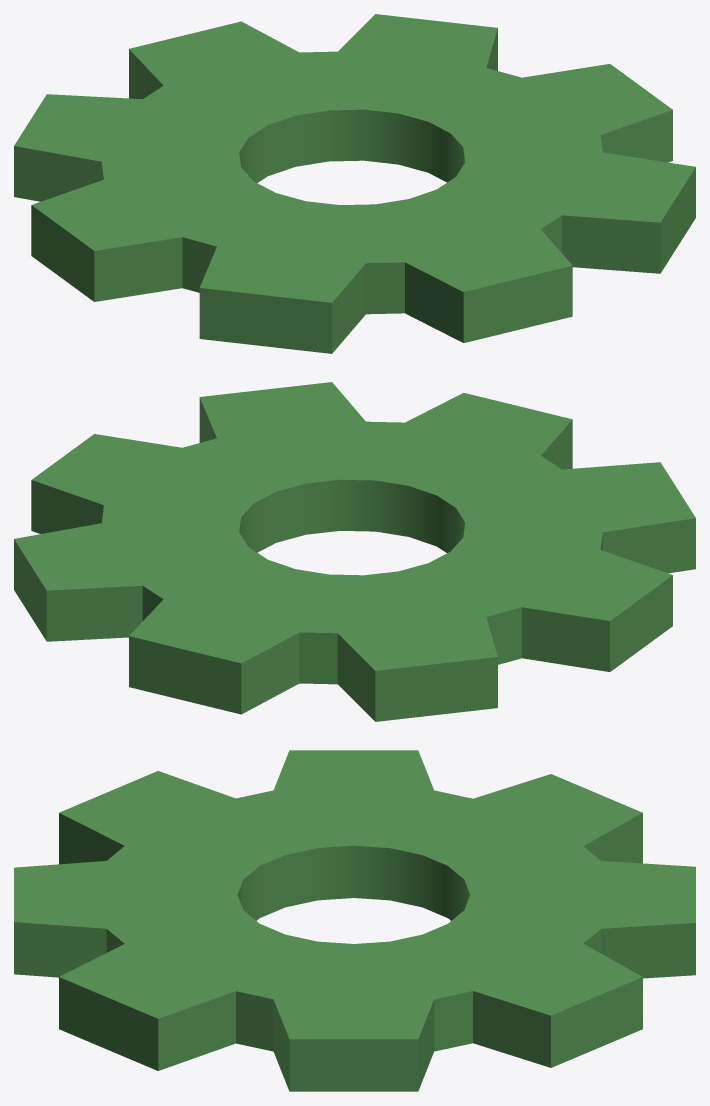
File: icon_mecanico.fbx
3 views of the same model, one above another, from view 1: azimuth 30°, elevation 25°; view 2: azimuth 150°, elevation 25°; view 3: azimuth 270°, elevation 25° (orthographic). The views are drawn at different scales.
Parts seen in each view (by area): view 1: tuerca; view 2: tuerca; view 3: tuerca.
Part boxes in pixels (box(x1,y1,x2,y2)): tuerca: box(14, 14, 695, 353); tuerca: box(14, 382, 695, 721); tuerca: box(14, 750, 695, 1091).
Size of the model in its own units: 0.7526 by 0.0635 by 0.7502.
